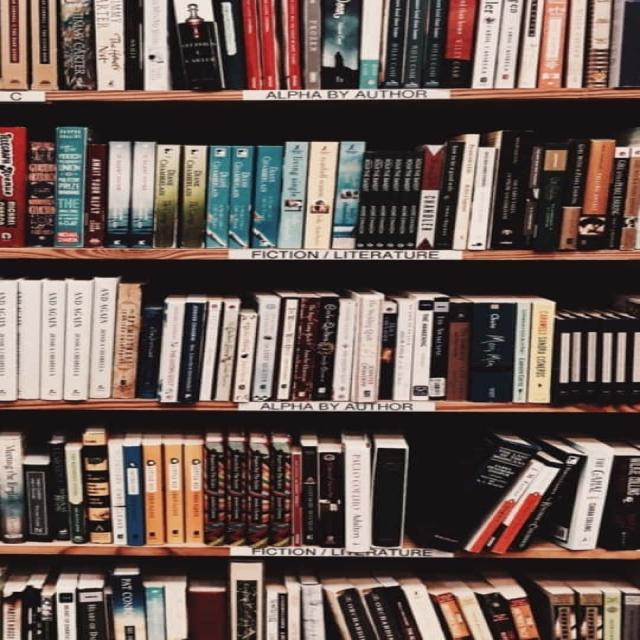book: (423, 441, 540, 551), (512, 453, 585, 551), (480, 131, 531, 251), (463, 297, 517, 404), (369, 434, 411, 550), (530, 142, 572, 254), (576, 139, 614, 251), (53, 127, 88, 248), (110, 280, 144, 401), (90, 276, 121, 401), (81, 427, 113, 545), (319, 1, 362, 87), (557, 139, 590, 251), (341, 432, 372, 550), (434, 140, 467, 250), (332, 142, 366, 248), (352, 290, 384, 402), (250, 293, 282, 402), (304, 143, 337, 248), (467, 143, 499, 251), (22, 438, 54, 546), (64, 276, 92, 399), (252, 144, 284, 249), (160, 296, 190, 407), (17, 278, 44, 401), (415, 143, 446, 250), (310, 295, 341, 402), (177, 296, 207, 406), (93, 1, 130, 90), (441, 1, 479, 86), (316, 434, 344, 549), (244, 435, 272, 550), (267, 433, 294, 550), (40, 278, 66, 399), (274, 294, 303, 402), (104, 141, 133, 248), (0, 433, 28, 543), (390, 292, 418, 401), (278, 142, 306, 249), (603, 145, 631, 252), (203, 434, 229, 548), (470, 2, 504, 87), (152, 143, 179, 250), (200, 298, 227, 405), (528, 298, 555, 404), (492, 2, 526, 86), (121, 433, 146, 546), (206, 146, 233, 250), (181, 145, 208, 249), (216, 300, 243, 404), (536, 2, 569, 87), (136, 301, 164, 401), (215, 1, 247, 88), (232, 304, 260, 403), (141, 1, 172, 89), (334, 293, 359, 402), (142, 433, 166, 546), (226, 146, 252, 250), (398, 150, 425, 250), (108, 568, 146, 639), (584, 1, 615, 88), (48, 433, 72, 544), (399, 1, 430, 86), (419, 3, 450, 88), (129, 143, 154, 248), (183, 434, 206, 548), (107, 433, 130, 546), (162, 435, 185, 546), (64, 436, 87, 546), (517, 1, 546, 87), (381, 2, 410, 87), (563, 1, 591, 88), (31, 2, 59, 88), (299, 434, 320, 548), (429, 298, 452, 402), (359, 3, 386, 87), (378, 299, 399, 402), (302, 0, 323, 86)
